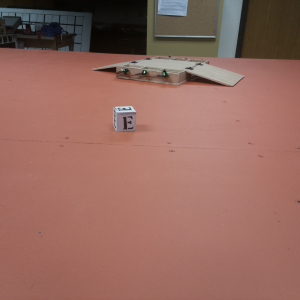blockE: (113, 105, 139, 136)
side: (114, 66, 183, 86)
slope: (191, 63, 244, 87), (92, 61, 118, 75)
